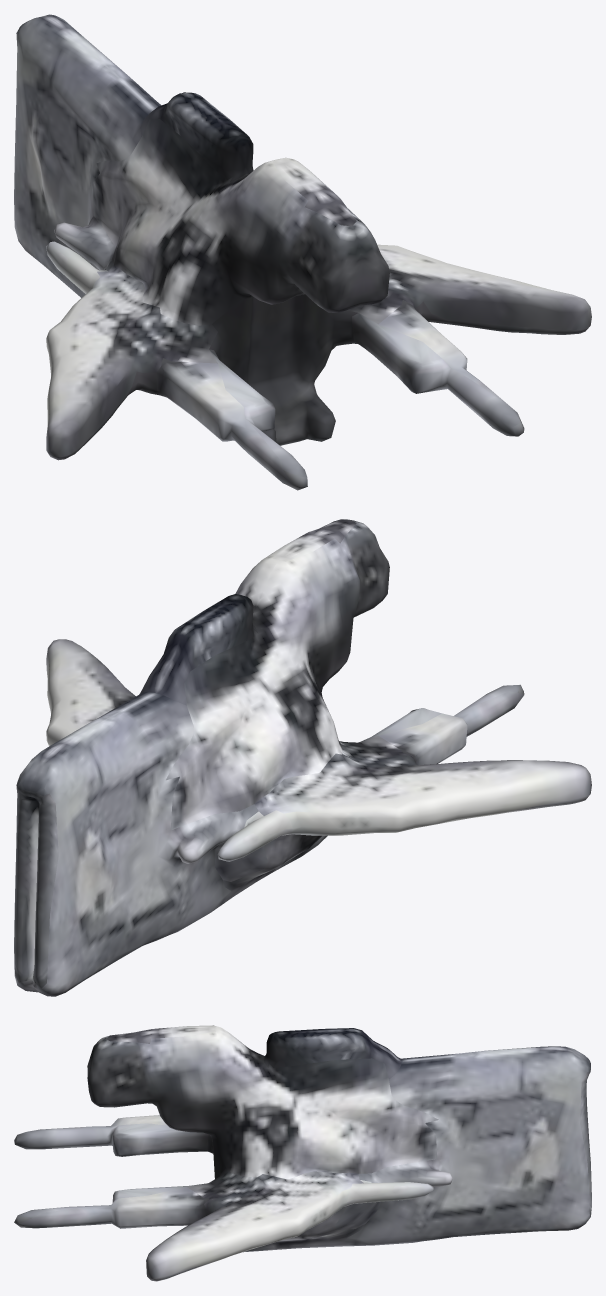
Rendered from placeholder_elyza.glb.
The picture shows the model from 3 angles, top to bottom: view 1: azimuth 30°, elevation 25°; view 2: azimuth 150°, elevation 25°; view 3: azimuth 270°, elevation 25°; orthographic projection. The views are drawn at different scales.
Visible parts, largest first — view 1: placeholder_elyza; view 2: placeholder_elyza; view 3: placeholder_elyza.
Boxes of the visible parts, left/top/right/bottom form: placeholder_elyza: left=14, top=14, right=591, bottom=490; placeholder_elyza: left=14, top=519, right=591, bottom=996; placeholder_elyza: left=14, top=1025, right=591, bottom=1281.
Size of the model in its own units: 0.1031 by 0.0516 by 0.1264.
1 material, 1 textured.
